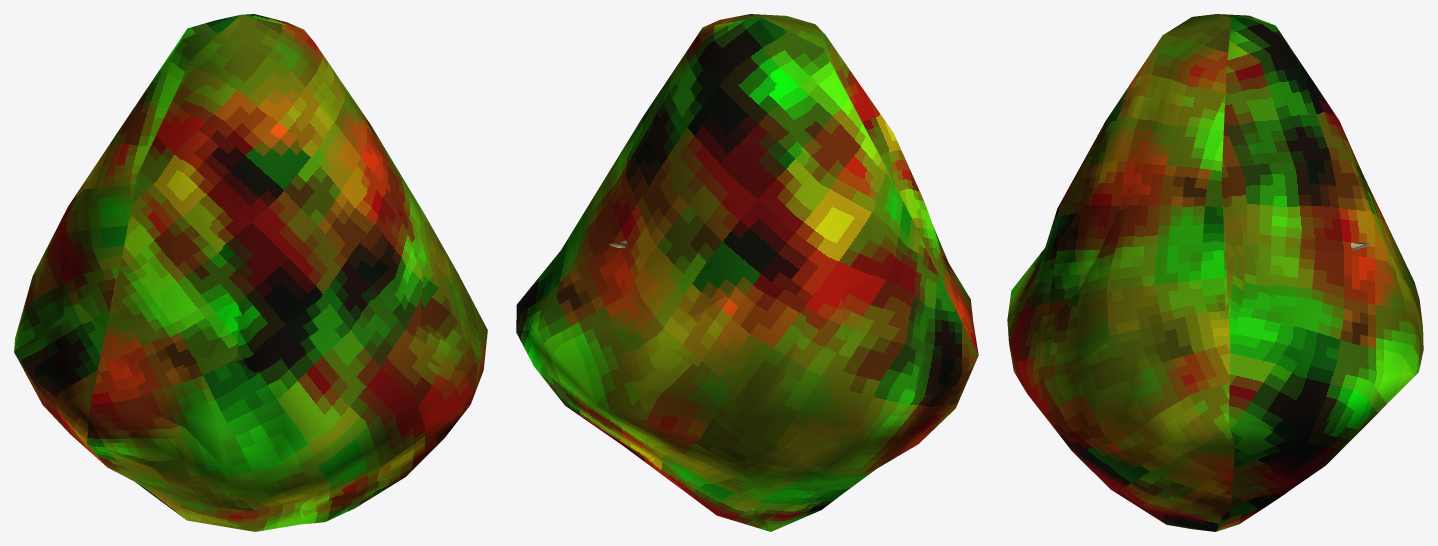
The model's file is af_medusa.fbx.
3 views of the same model, side by side, from view 1: azimuth 30°, elevation 25°; view 2: azimuth 150°, elevation 25°; view 3: azimuth 270°, elevation 25° (orthographic). The views are drawn at different scales.
Parts seen in each view (by area): view 1: 0; view 2: 0; view 3: 0.
Boxes of the visible parts, left/top/right/bottom form: 0: left=14, top=14, right=487, bottom=531; 0: left=516, top=14, right=978, bottom=531; 0: left=1007, top=14, right=1423, bottom=531.
Size of the model in its own units: 0.2741 by 0.3278 by 0.2501.
